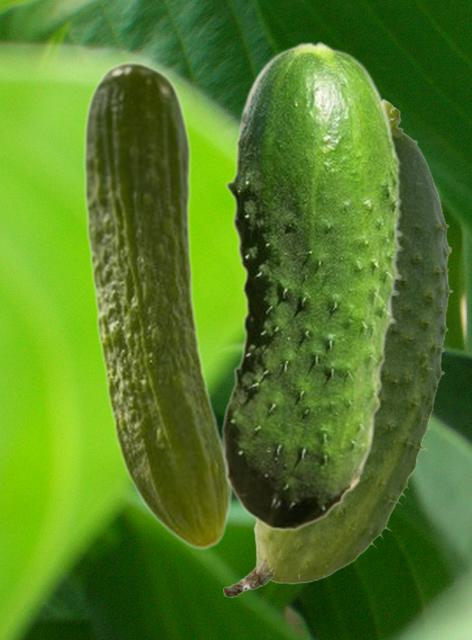cucumber: (223, 99, 452, 596), (221, 40, 403, 530), (82, 60, 232, 550)
